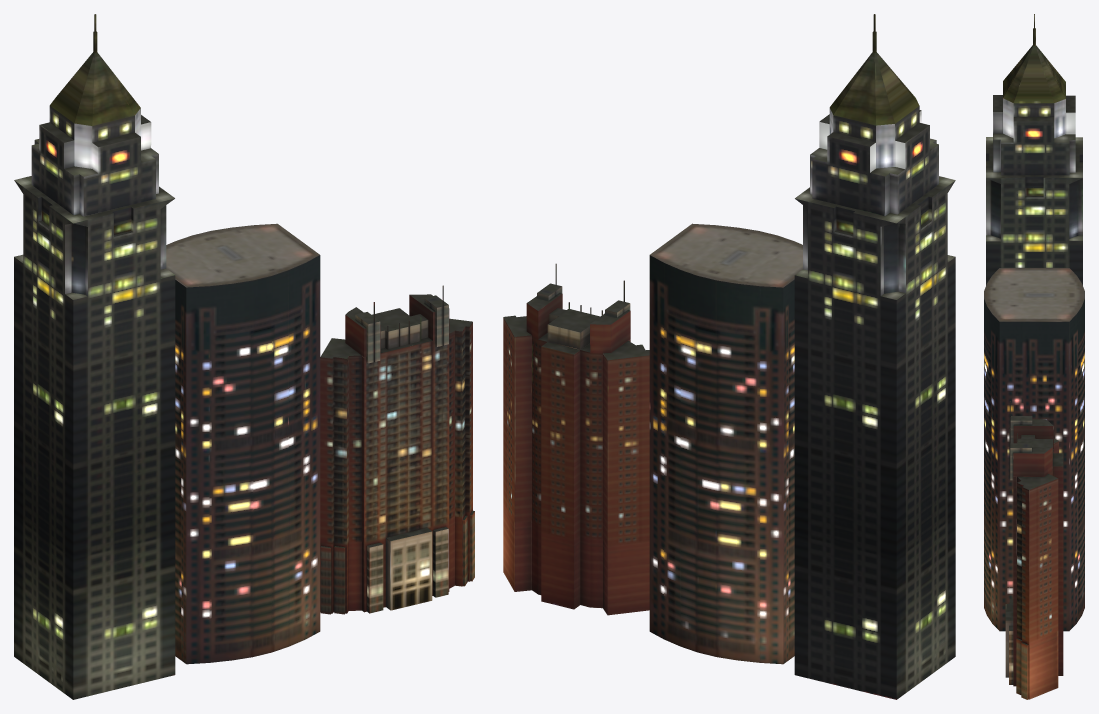
Rendered from tokyo-zakkyo-b.glb.
3 renders of one model, left to right at view 1: azimuth 30°, elevation 25°; view 2: azimuth 150°, elevation 25°; view 3: azimuth 270°, elevation 25°, orthographic. The views are drawn at different scales.
Visible parts, largest first — view 1: Clone of BACKGROUND_BUILDINGS_1.008_BACKGROUND_BUILDINGS_1_0, Clone of BACKGROUND_BUILDINGS_1.007_BACKGROUND_BUILDINGS_1_0, Clone of BACKGROUND_BUILDINGS_1.004_BACKGROUND_BUILDINGS_1_0; view 2: Clone of BACKGROUND_BUILDINGS_1.008_BACKGROUND_BUILDINGS_1_0, Clone of BACKGROUND_BUILDINGS_1.007_BACKGROUND_BUILDINGS_1_0, Clone of BACKGROUND_BUILDINGS_1.004_BACKGROUND_BUILDINGS_1_0; view 3: Clone of BACKGROUND_BUILDINGS_1.007_BACKGROUND_BUILDINGS_1_0, Clone of BACKGROUND_BUILDINGS_1.008_BACKGROUND_BUILDINGS_1_0, Clone of BACKGROUND_BUILDINGS_1.004_BACKGROUND_BUILDINGS_1_0.
Boxes of the visible parts, left/top/right/bottom form: Clone of BACKGROUND_BUILDINGS_1.008_BACKGROUND_BUILDINGS_1_0: left=14, top=14, right=175, bottom=699; Clone of BACKGROUND_BUILDINGS_1.007_BACKGROUND_BUILDINGS_1_0: left=166, top=223, right=320, bottom=664; Clone of BACKGROUND_BUILDINGS_1.004_BACKGROUND_BUILDINGS_1_0: left=320, top=285, right=474, bottom=614; Clone of BACKGROUND_BUILDINGS_1.008_BACKGROUND_BUILDINGS_1_0: left=794, top=14, right=955, bottom=699; Clone of BACKGROUND_BUILDINGS_1.007_BACKGROUND_BUILDINGS_1_0: left=649, top=223, right=802, bottom=664; Clone of BACKGROUND_BUILDINGS_1.004_BACKGROUND_BUILDINGS_1_0: left=503, top=263, right=649, bottom=615; Clone of BACKGROUND_BUILDINGS_1.007_BACKGROUND_BUILDINGS_1_0: left=984, top=268, right=1084, bottom=631; Clone of BACKGROUND_BUILDINGS_1.008_BACKGROUND_BUILDINGS_1_0: left=986, top=14, right=1082, bottom=285; Clone of BACKGROUND_BUILDINGS_1.004_BACKGROUND_BUILDINGS_1_0: left=1005, top=401, right=1063, bottom=699.
Size of the model in its own units: 179 by 260 by 44.41.
1 material, 1 textured.
